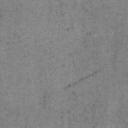finishing roll printing: (66, 68, 102, 88)
